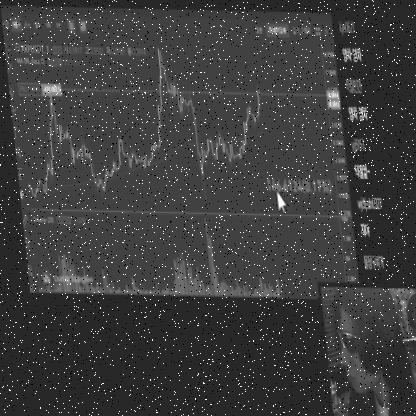streamer: (324, 283, 416, 416)
